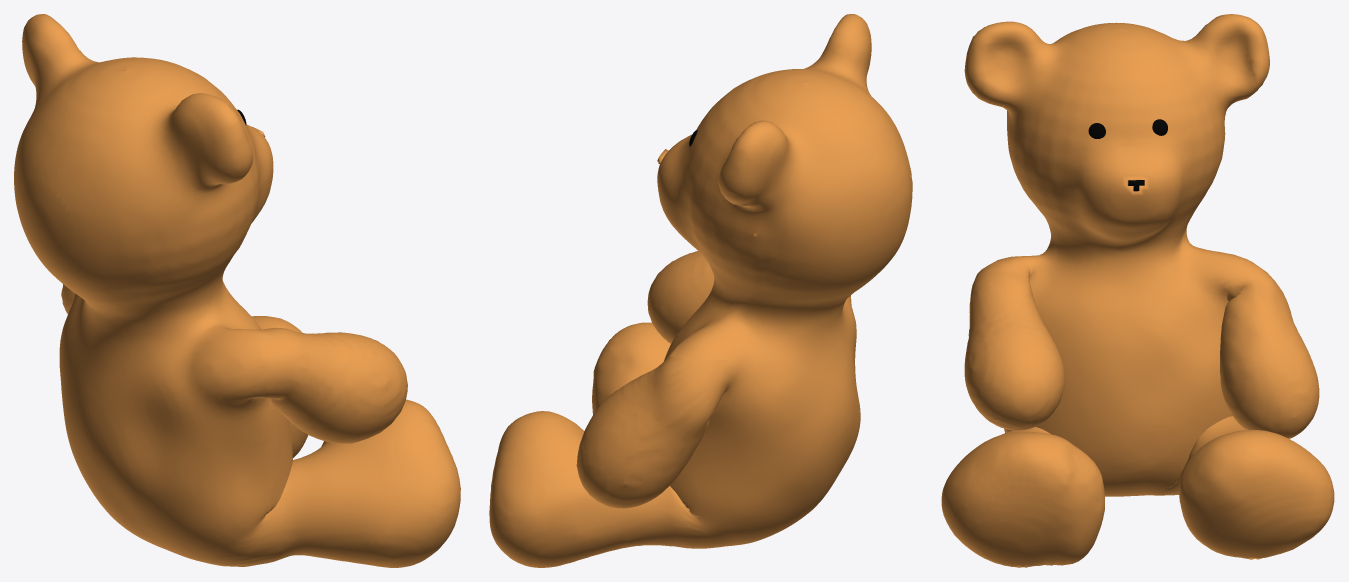
The model's file is teddy bear.glb.
3 renders of one model, left to right at view 1: azimuth 30°, elevation 25°; view 2: azimuth 150°, elevation 25°; view 3: azimuth 270°, elevation 25°, orthographic. The views are drawn at different scales.
Parts seen in each view (by area): view 1: Sphere; view 2: Sphere; view 3: Sphere.
Part boxes in pixels (left/top/right/bottom): Sphere: left=14, top=14, right=460, bottom=567; Sphere: left=489, top=14, right=912, bottom=567; Sphere: left=941, top=14, right=1334, bottom=567.
Size of the model in its own units: 2.69 by 3.73 by 2.89.
